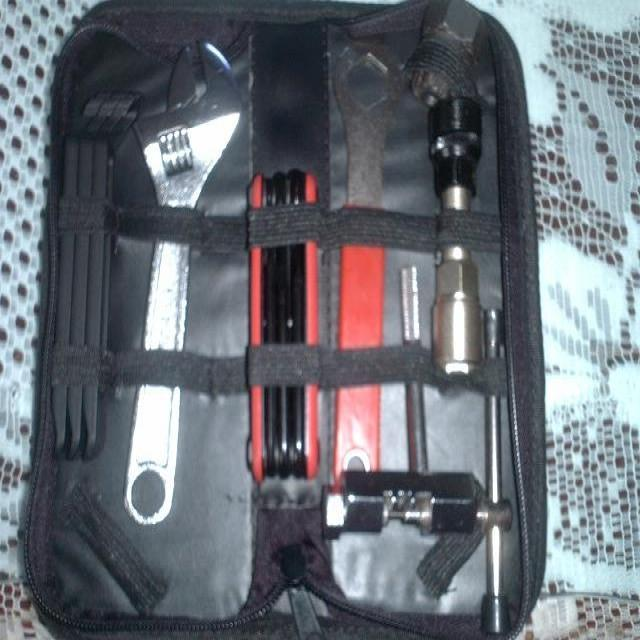wrench: (118, 33, 250, 534), (328, 31, 406, 505)
